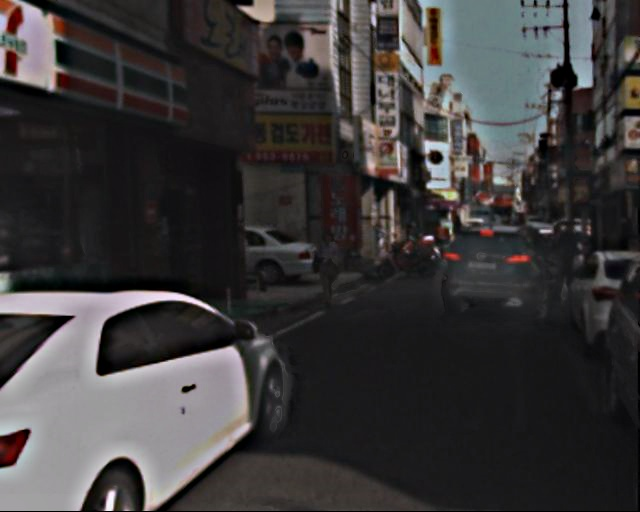person: (312, 227, 348, 315), (554, 222, 583, 292)
